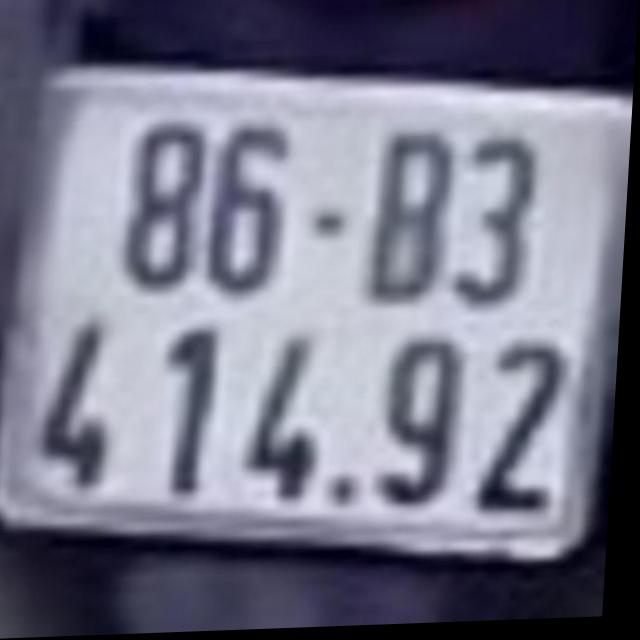1: (165, 325, 223, 498)
2: (480, 337, 576, 518)
3: (453, 125, 547, 320)
4: (42, 316, 129, 487), (249, 328, 331, 507)
6: (205, 122, 295, 301)
8: (125, 116, 207, 292)
9: (381, 332, 470, 513)
B: (364, 117, 457, 311)
